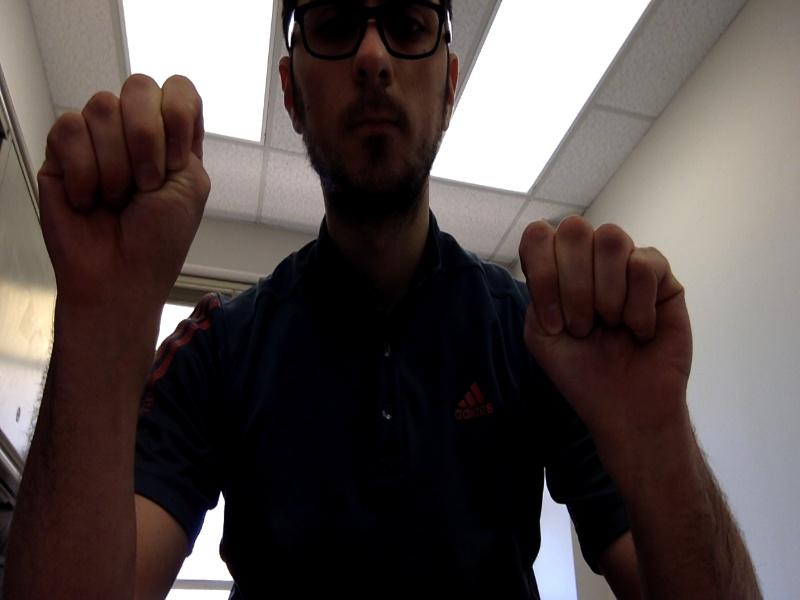0-hand: (37, 74, 209, 310), (520, 218, 692, 440)
